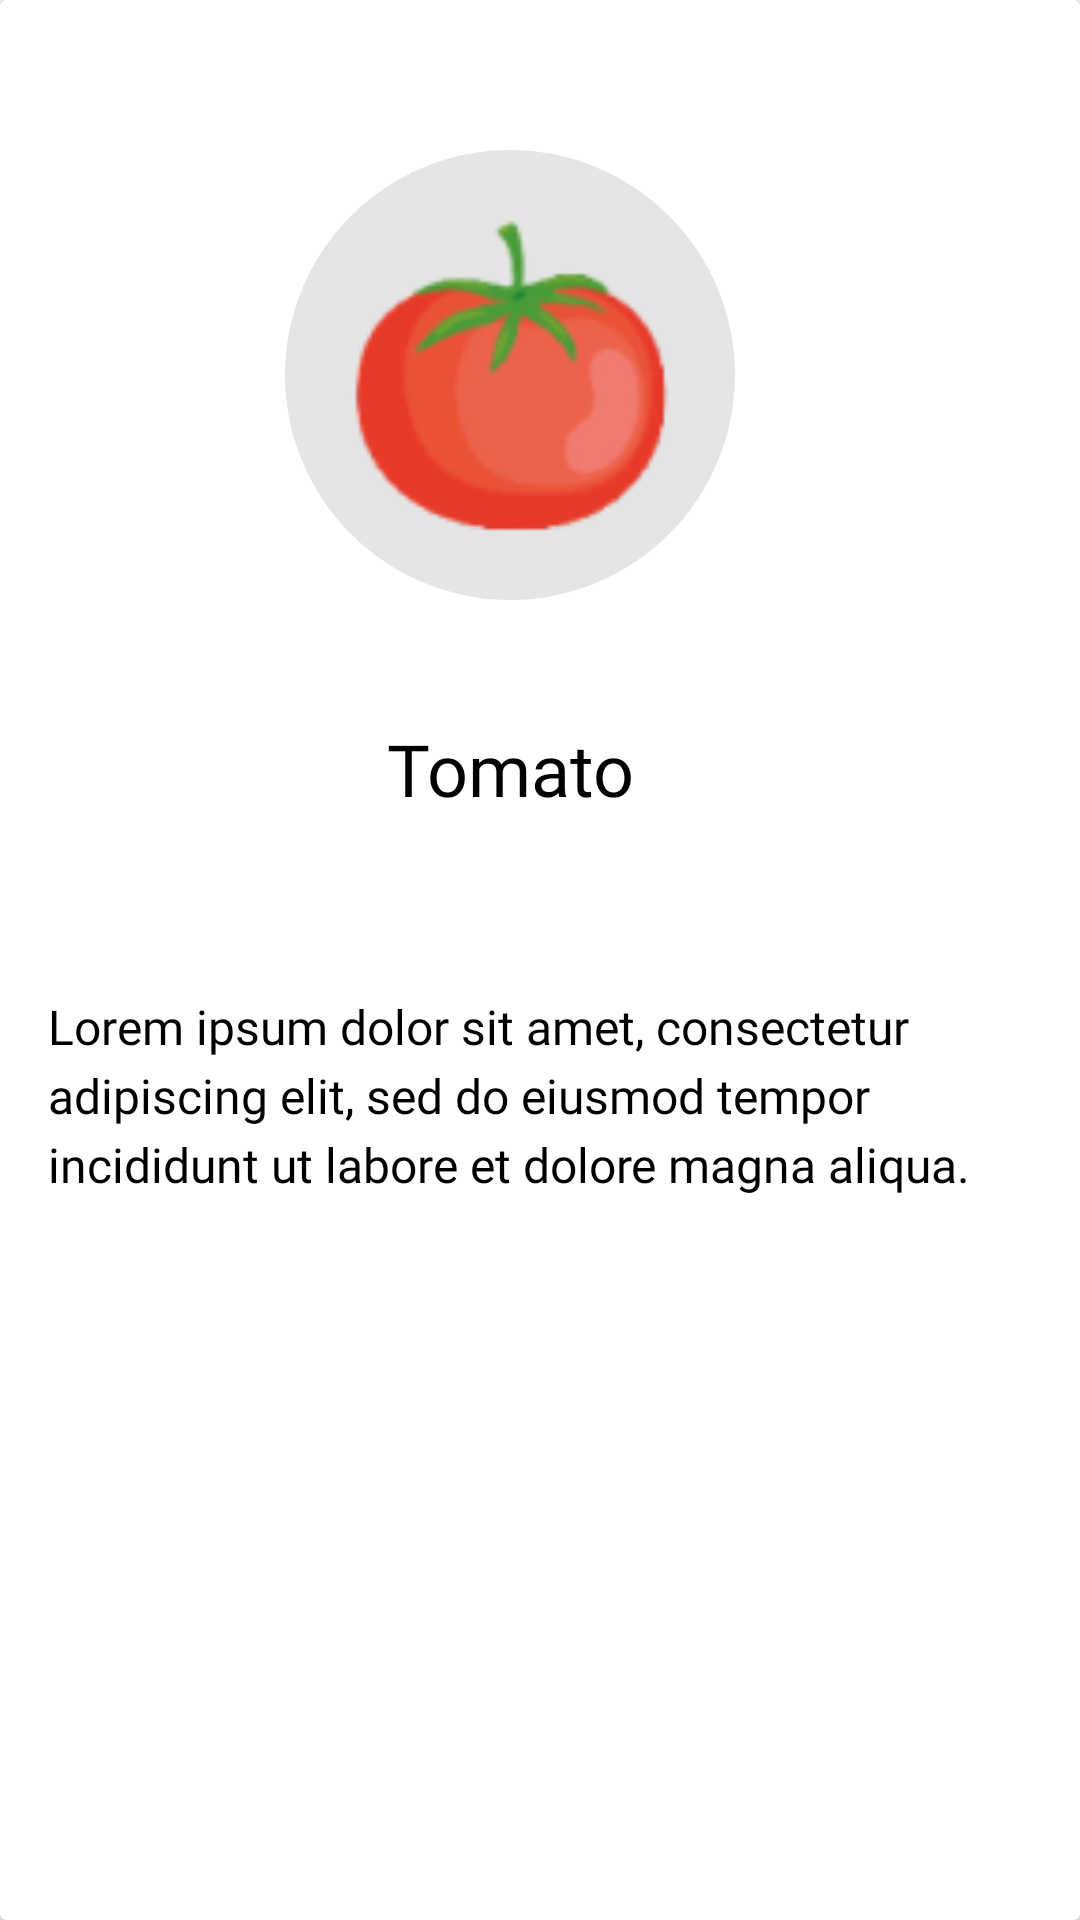

Icons on this 1080x1920 Android screen, each with its box as [x1=x1, y1=y1, x2=x2, y2=y2]:
Tomato Image: [x1=355, y1=221, x2=668, y2=531]
